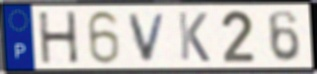2: (221, 9, 260, 66)
6: (87, 9, 123, 67), (266, 9, 302, 65)
H: (36, 10, 81, 66)
K: (176, 10, 212, 64)
V: (126, 11, 170, 63)
